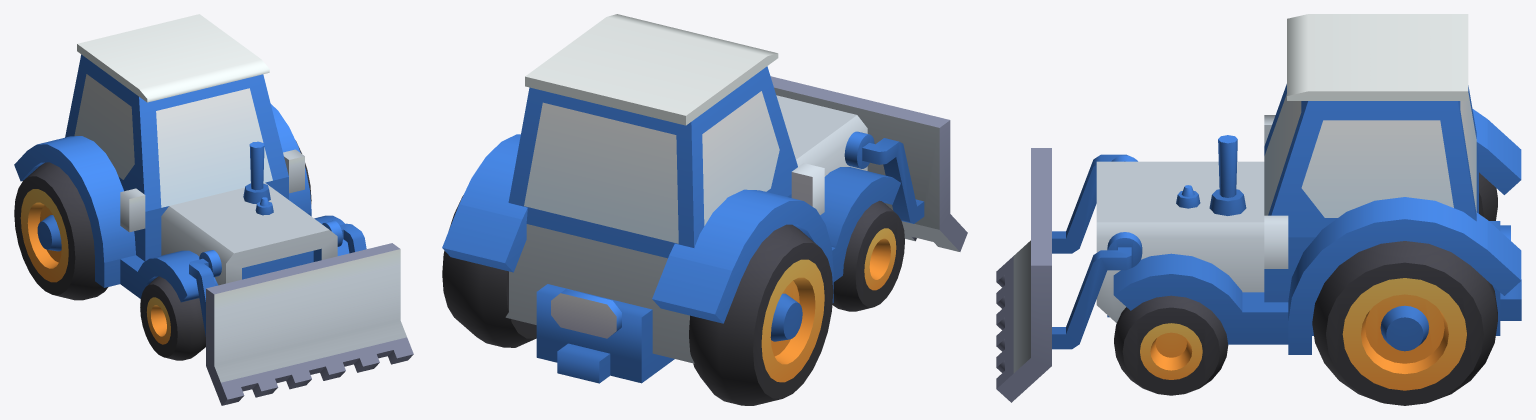
The model's file is harv_usa.glb.
3 renders of one model, left to right at view 1: azimuth 30°, elevation 25°; view 2: azimuth 150°, elevation 25°; view 3: azimuth 270°, elevation 25°, orthographic. The views are drawn at different scales.
Parts seen in each view (by area): view 1: body, shovel, wheel-back-right, wheel-front-right; view 2: body, wheel-back-right, shovel, wheel-front-right, wheel-back-left; view 3: body, wheel-back-left, shovel, wheel-front-left, wheel-back-right.
Boxes of the visible parts, x1,y1,x2,y2 form: body: [14, 14, 349, 302]; shovel: [189, 220, 413, 405]; wheel-back-right: [14, 162, 108, 300]; wheel-front-right: [140, 276, 205, 360]; body: [442, 14, 900, 383]; wheel-back-right: [689, 224, 833, 405]; shovel: [770, 76, 967, 251]; wheel-front-right: [832, 200, 904, 311]; wheel-back-left: [442, 195, 536, 347]; body: [1096, 14, 1521, 354]; wheel-back-left: [1312, 241, 1497, 405]; shovel: [996, 148, 1142, 402]; wheel-front-left: [1114, 295, 1228, 395]; wheel-back-right: [1479, 172, 1497, 220].
Size of the model in its own units: 1.66 by 1.51 by 2.47.
Materials: 1 (1 with a texture image).
